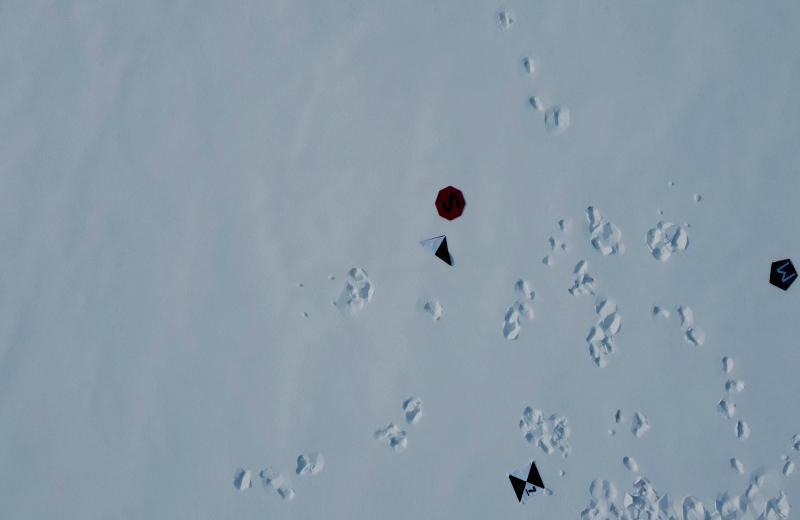Octagon: (426, 183, 467, 224)
Pentagon: (769, 255, 799, 294)
